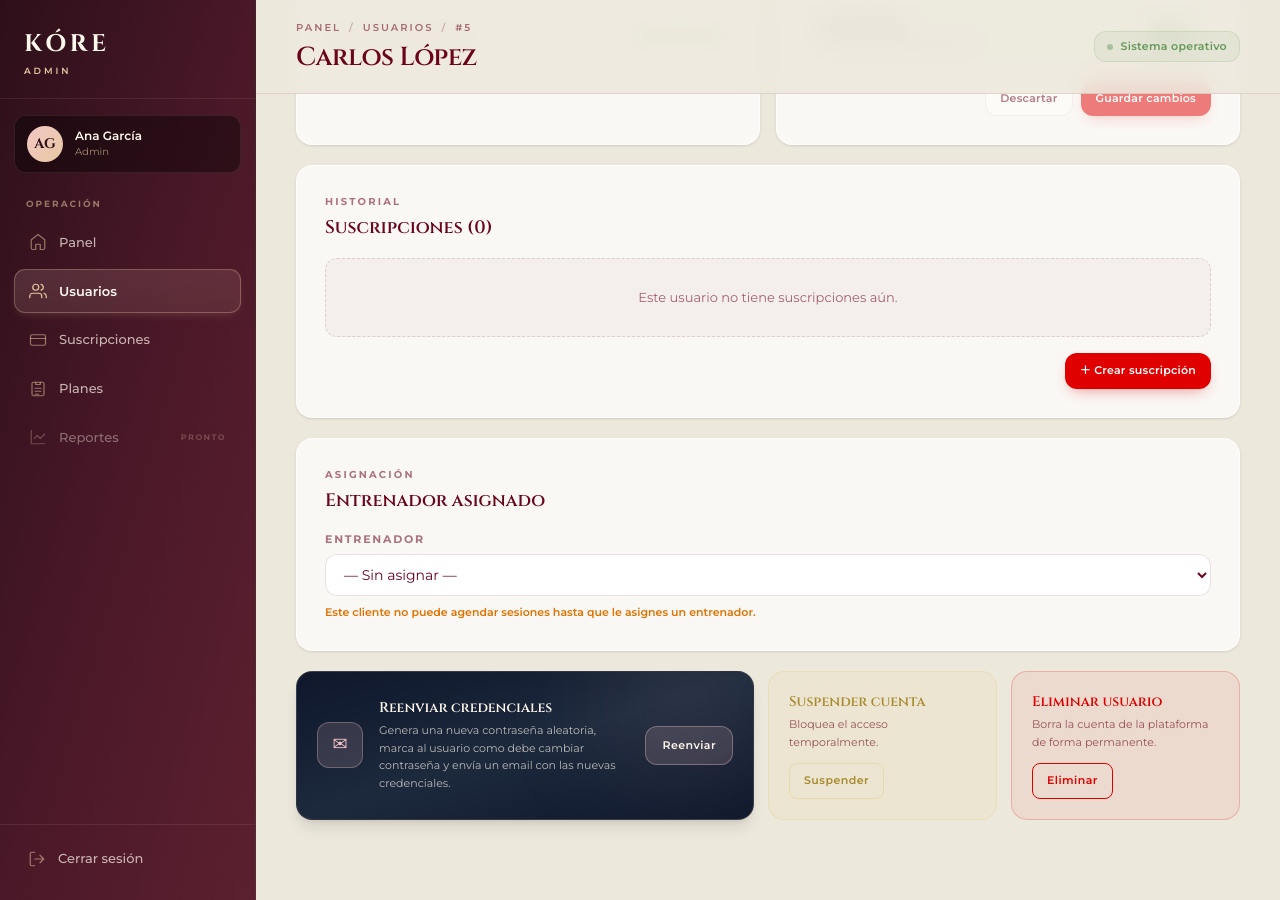
Test: AdminUserDetailPage › opens the resend credentials modal when the resend action is clicked
(page scrolled)
Click the button "Reenviar" at (689, 745), box [646,726,733,765]
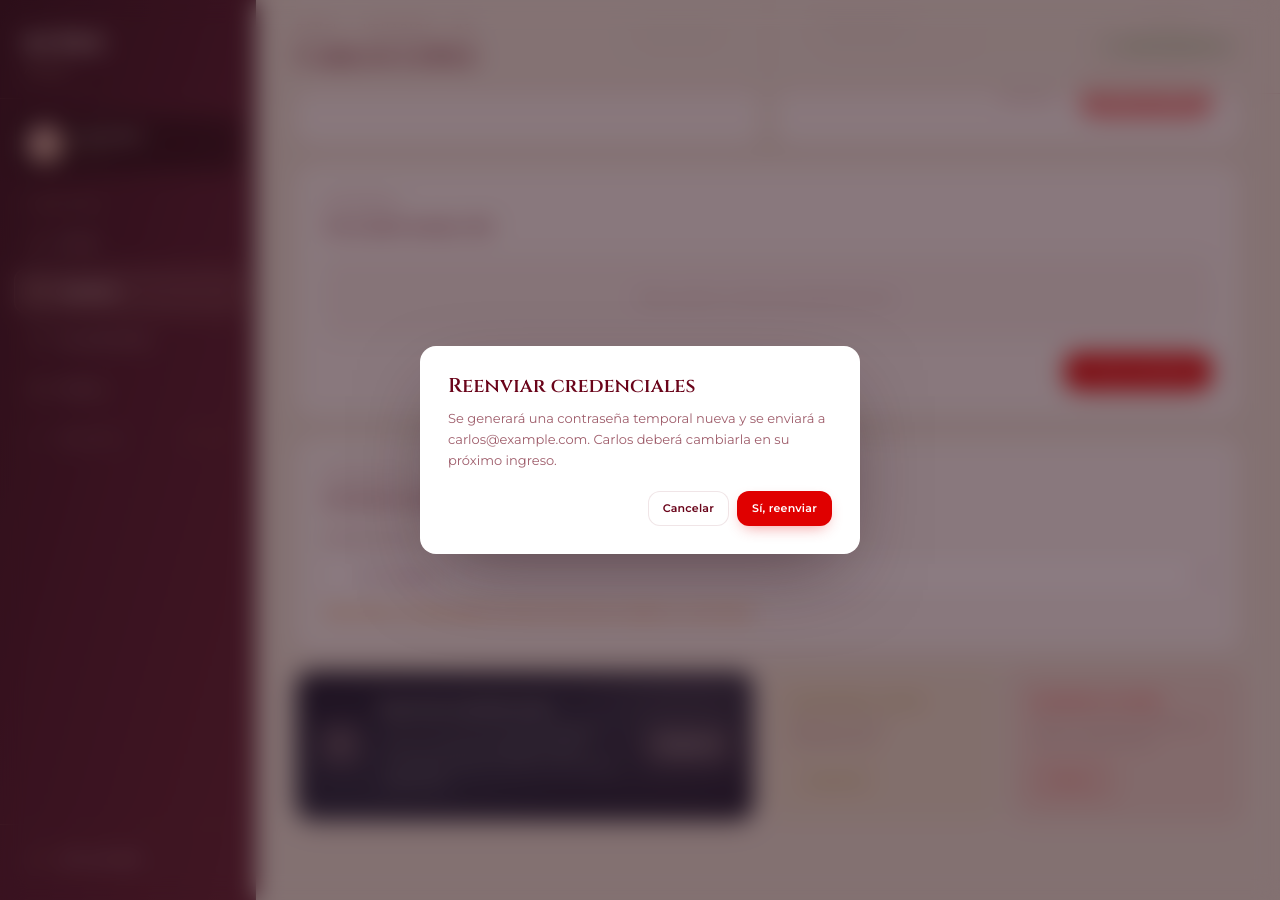
Expected: the dialog is shown
Expected: the heading "Reenviar credenciales" is shown, [448,372,696,398]
